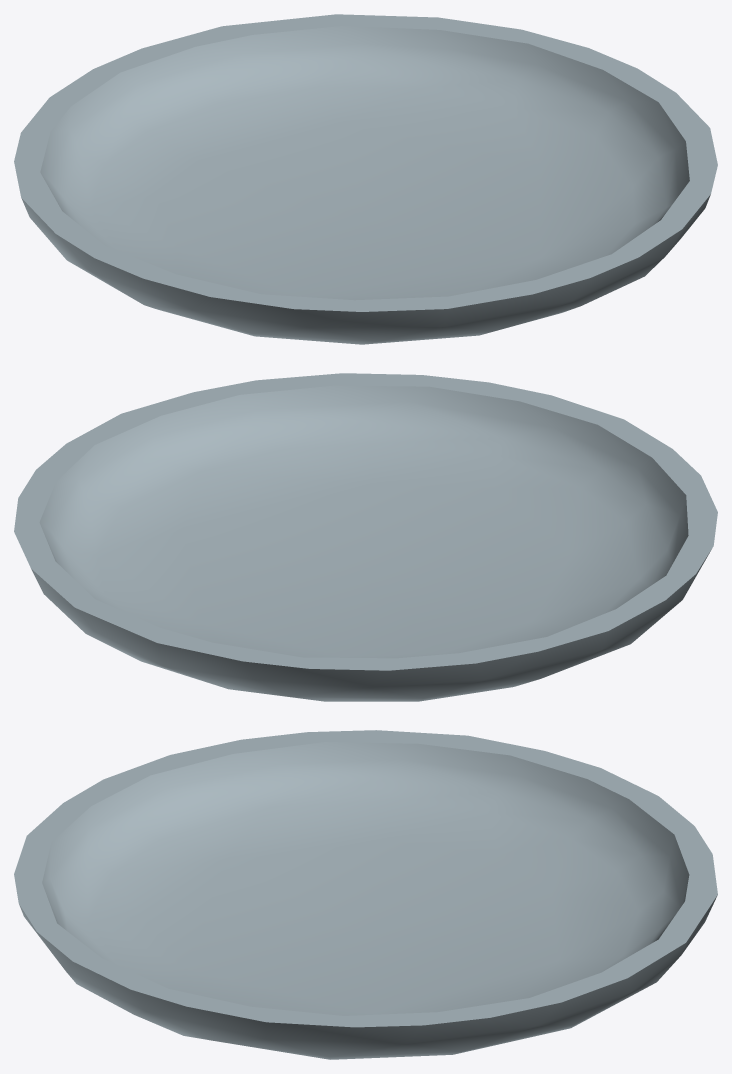
Rendered from SM_Plate_Large.fbx.
3 renders of one model, top to bottom at view 1: azimuth 30°, elevation 25°; view 2: azimuth 150°, elevation 25°; view 3: azimuth 270°, elevation 25°, orthographic.
Parts seen in each view (by area): view 1: SM_Plate_Large; view 2: SM_Plate_Large; view 3: SM_Plate_Large.
Part boxes in pixels (<box>): SM_Plate_Large: <box>14,14,717,344</box>; SM_Plate_Large: <box>14,373,717,701</box>; SM_Plate_Large: <box>14,730,717,1059</box>.
Size of the model in its own units: 43.44 by 43.48 by 5.55.
